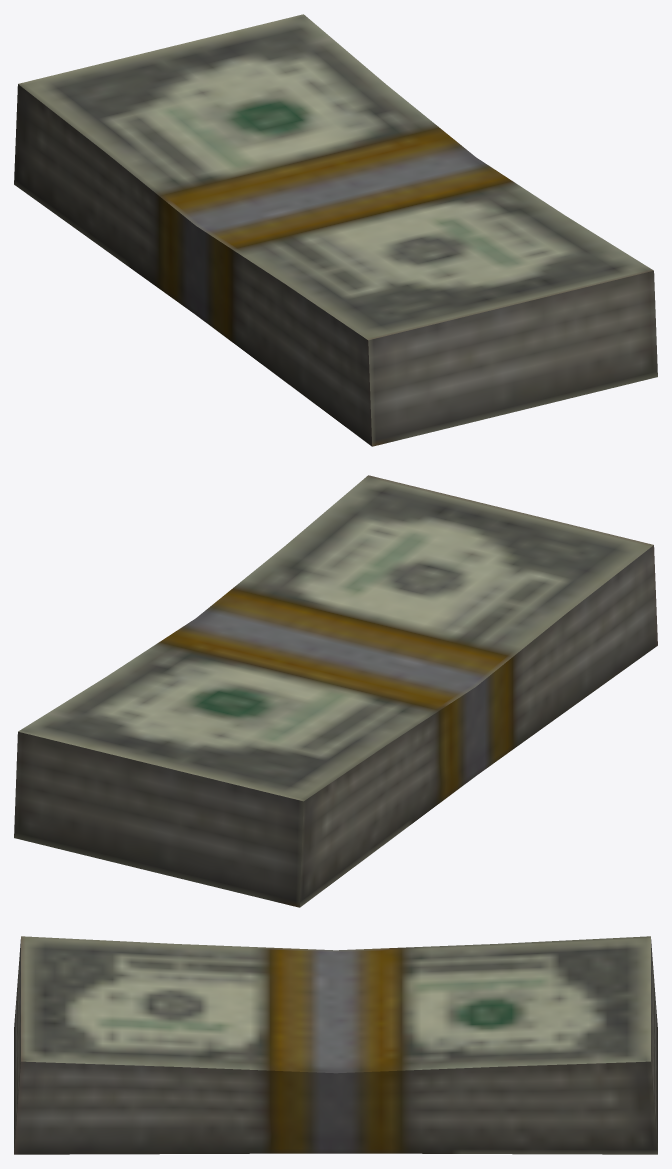
Rendered from cash_1.obj.
3 views of the same model, one above another, from view 1: azimuth 30°, elevation 25°; view 2: azimuth 150°, elevation 25°; view 3: azimuth 270°, elevation 25° (orthographic). The views are drawn at different scales.
Visible parts, largest first — view 1: cash_1; view 2: cash_1; view 3: cash_1.
Boxes of the visible parts, bbox=[...] form: cash_1: bbox=[14, 14, 657, 446]; cash_1: bbox=[14, 475, 657, 907]; cash_1: bbox=[14, 936, 657, 1154].
Size of the model in its own units: 0.1051 by 0.0364 by 0.2281.
